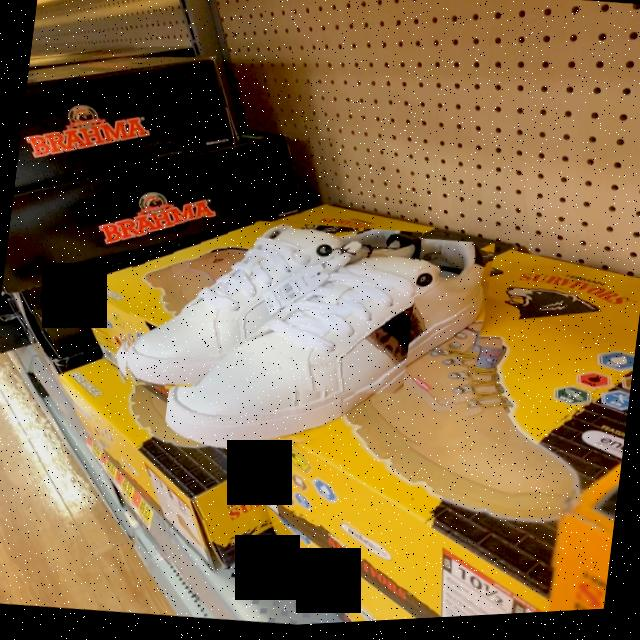shoe: (166, 243, 486, 446), (124, 226, 421, 389)
